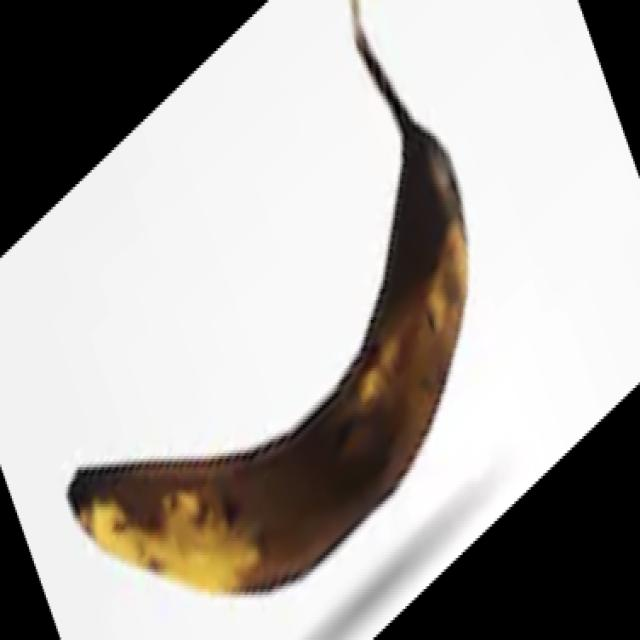Rotten: (63, 0, 484, 610)
